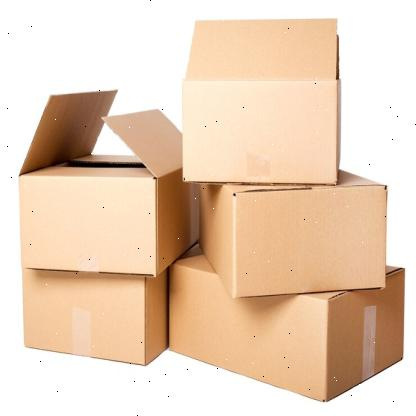box: (168, 261, 327, 403), (233, 185, 386, 299), (181, 80, 338, 182), (20, 177, 157, 276), (22, 270, 146, 365)
